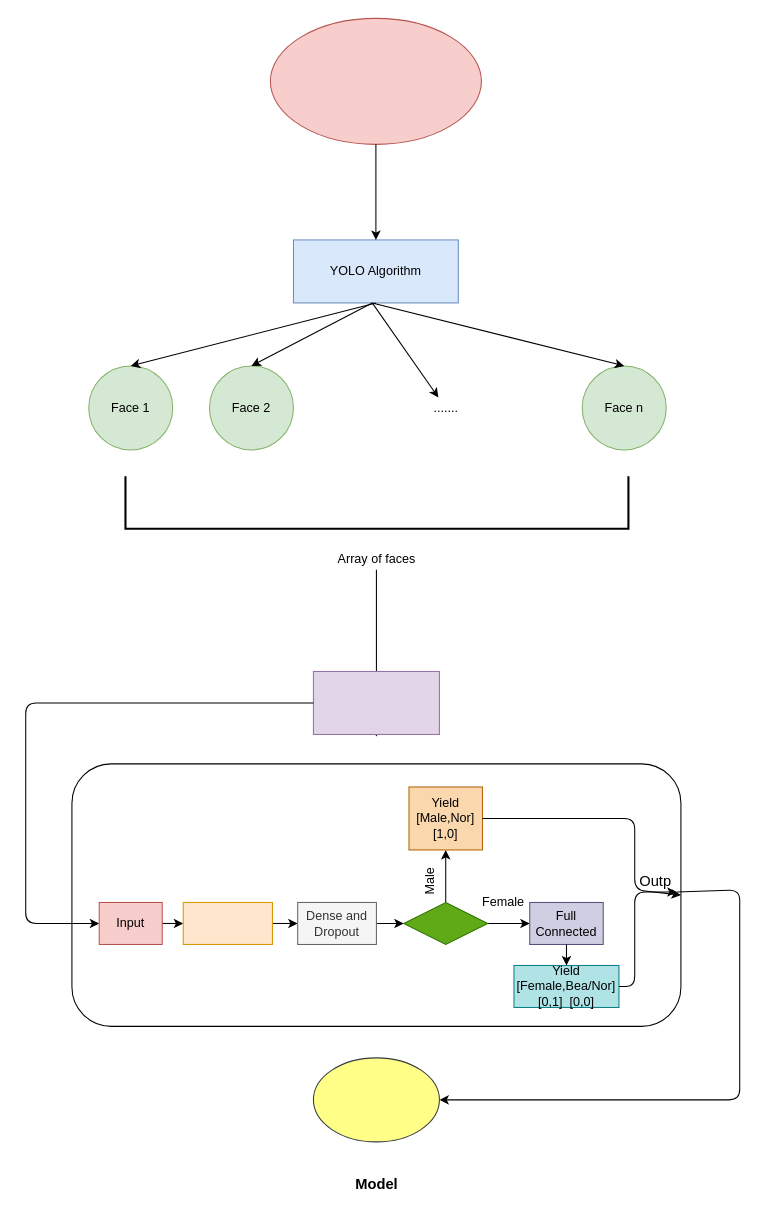
This 766x1213 diagram has some shape labels left out. The shapes that lost their labels are listed below. From the top down, each one's centre as x and y in pixels, then its label:
At [375,80]: "Image with unknow shape".
At [375,702]: "Reshape 28x28".
At [227,922]: "Conv2d and MaxPooling".
At [445,922]: "Gender".
At [375,1099]: "Female = ? Male = ? Hot Girl = ?".
